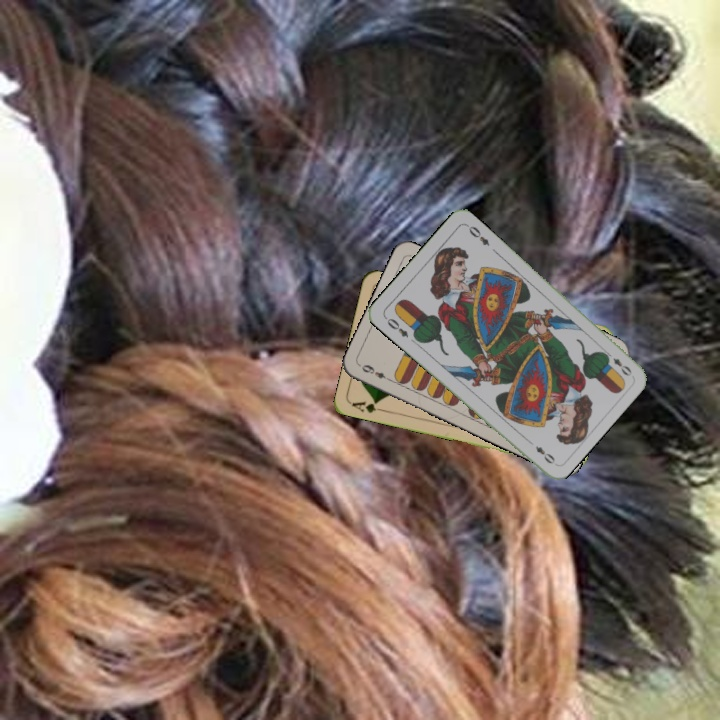E9: (357, 360, 394, 384)
EO: (601, 347, 635, 379), (381, 313, 411, 340)
GA: (348, 397, 388, 416)
